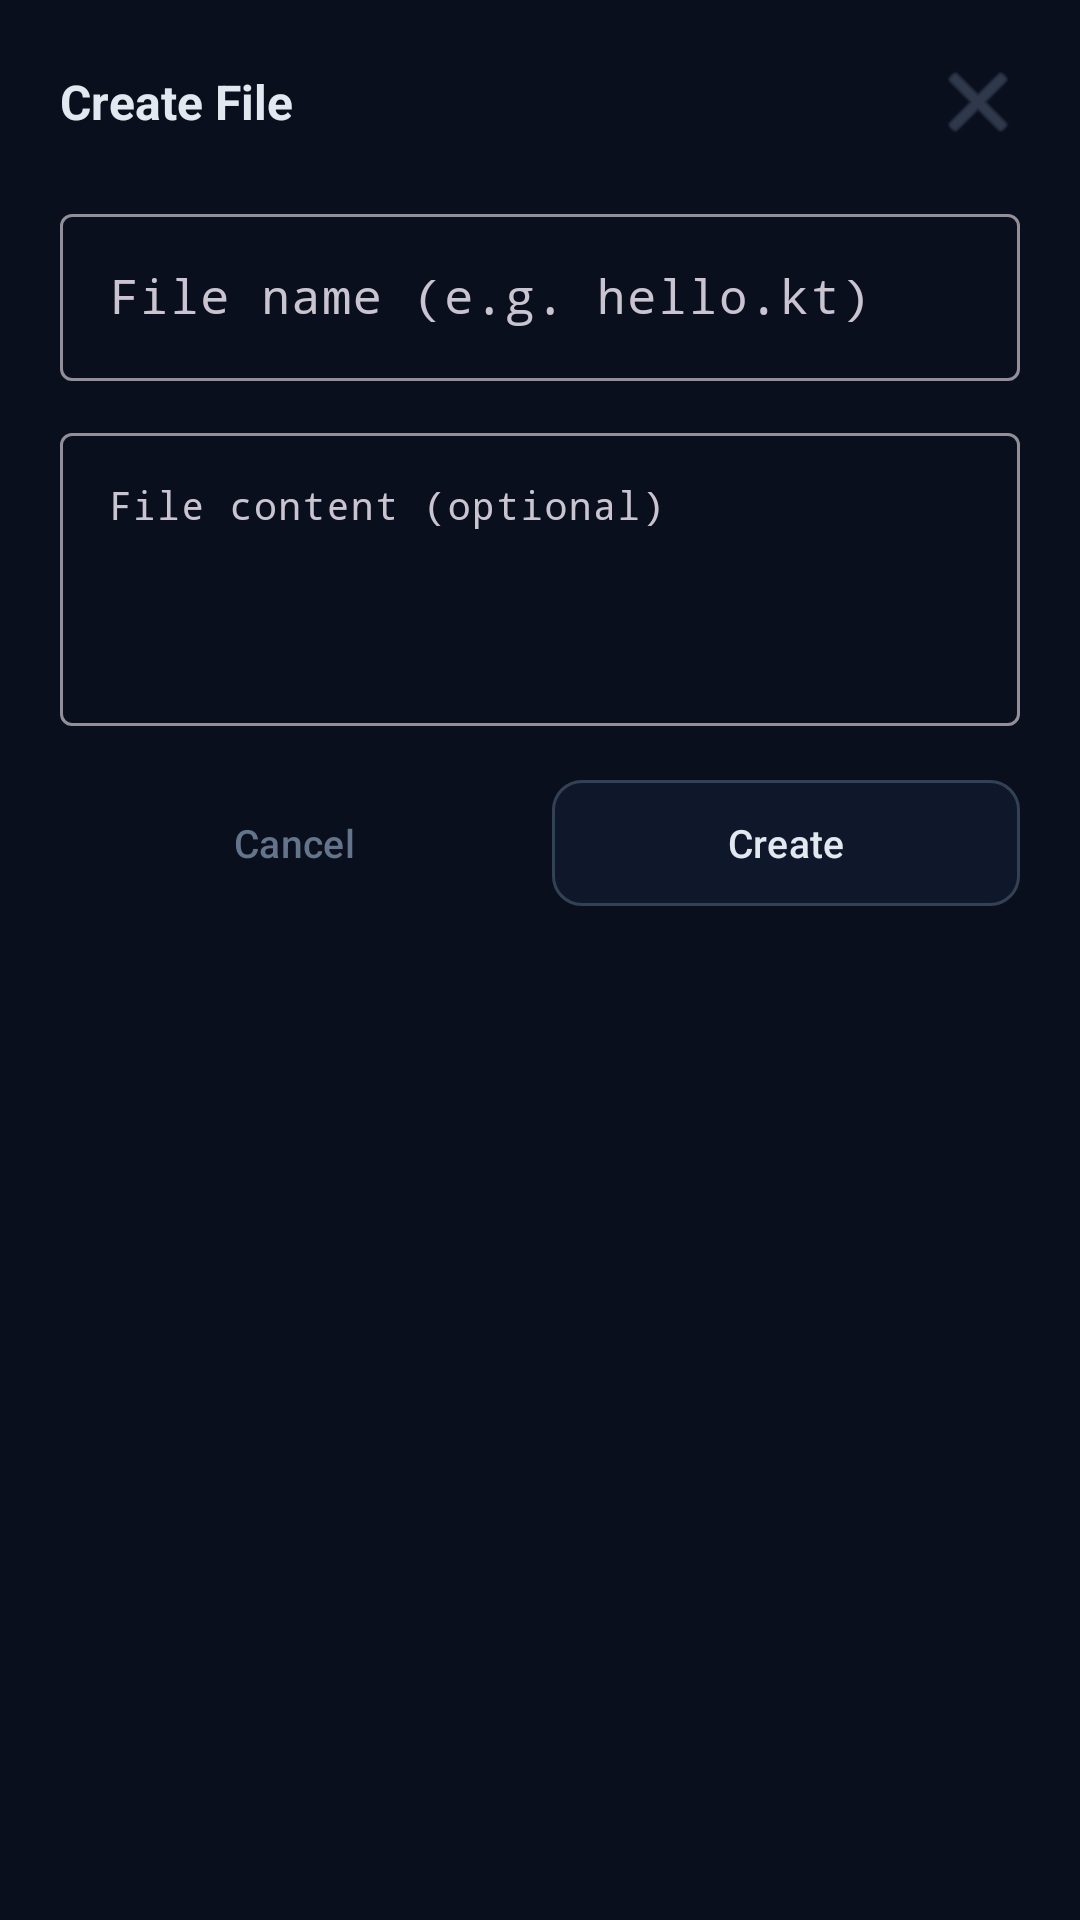

Where to tap for icons on this 1080 × 1920 app screen, as (x=x, y=y):
Close: (x=978, y=102)
